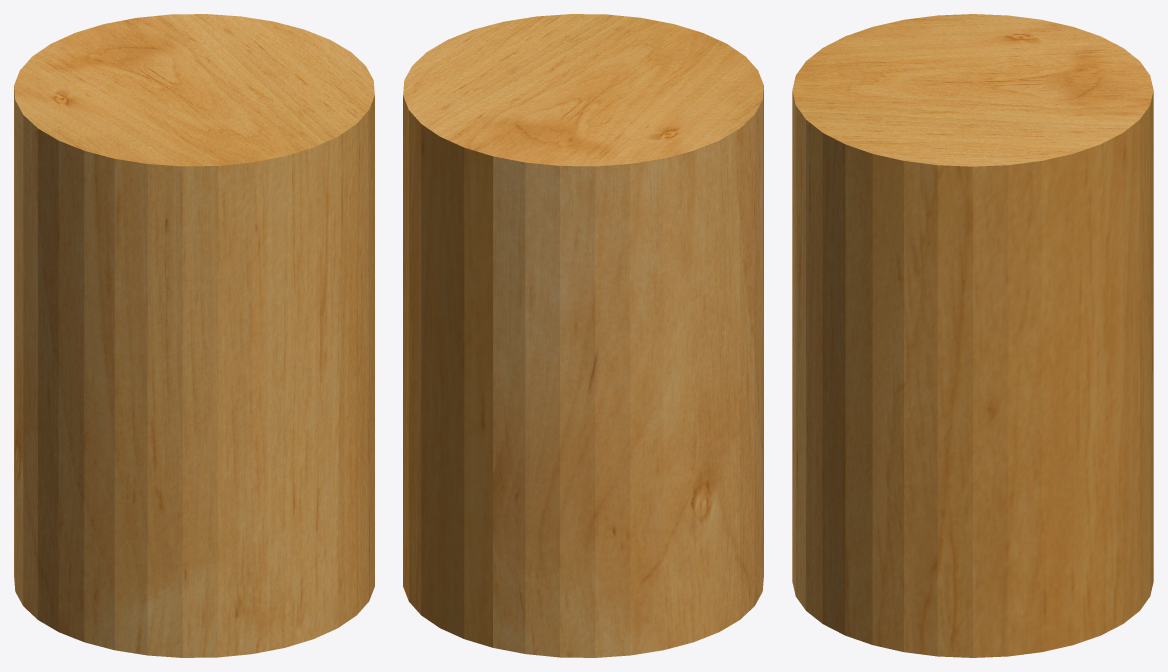
The model's file is pawn2.fbx.
The picture shows the model from 3 angles, left to right: view 1: azimuth 30°, elevation 25°; view 2: azimuth 150°, elevation 25°; view 3: azimuth 270°, elevation 25°; orthographic projection.
Parts seen in each view (by area): view 1: Pawn; view 2: Pawn; view 3: Pawn.
Boxes of the visible parts, x1,y1,x2,y2 form: Pawn: (14, 14, 374, 657); Pawn: (403, 14, 763, 657); Pawn: (792, 14, 1153, 657).
Bounding box in the file's own units: 2 × 3 × 2.
